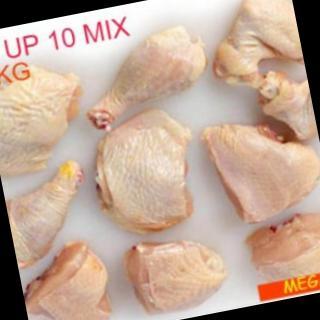Ayam: (85, 105, 206, 241), (76, 26, 216, 132), (199, 106, 320, 228), (1, 56, 94, 174), (2, 159, 101, 266), (120, 229, 235, 320), (201, 1, 307, 95), (16, 236, 118, 320), (255, 60, 320, 150), (241, 212, 320, 285)
